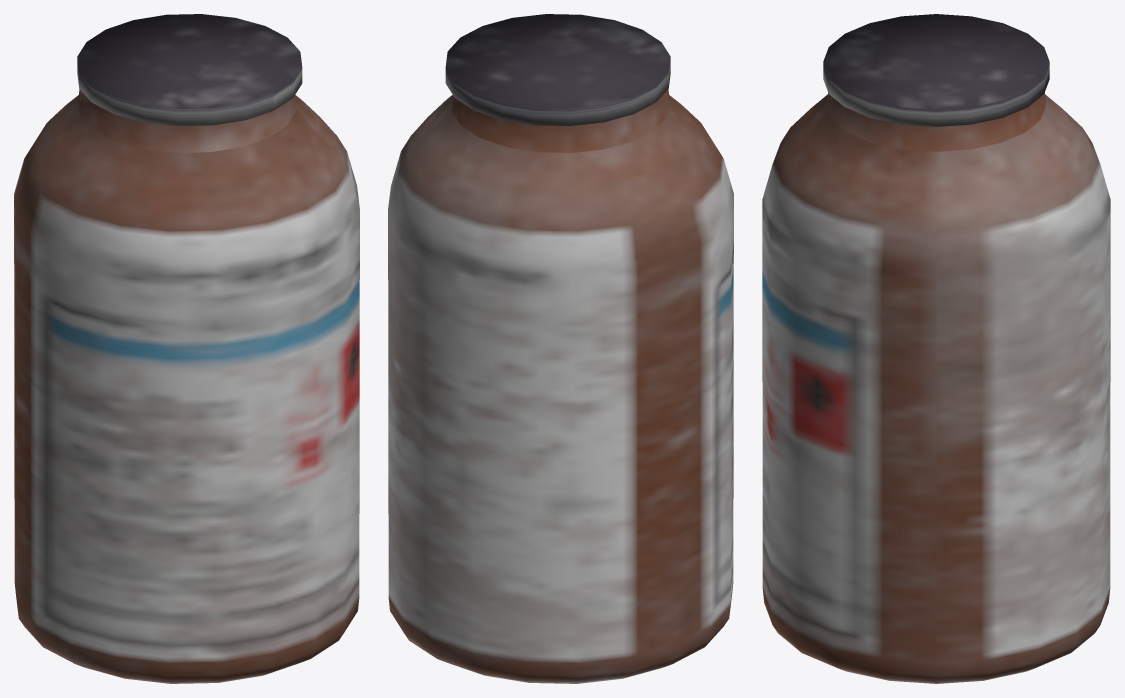
File: SM_Bottle_1.fbx
The picture shows the model from 3 angles, left to right: view 1: azimuth 30°, elevation 25°; view 2: azimuth 150°, elevation 25°; view 3: azimuth 270°, elevation 25°; orthographic projection.
Visible parts, largest first — view 1: SM_Bottle_1_LOD0; view 2: SM_Bottle_1_LOD0; view 3: SM_Bottle_1_LOD0.
Boxes of the visible parts, box(x1,y1,x2,y2) form: SM_Bottle_1_LOD0: box(14, 14, 359, 683); SM_Bottle_1_LOD0: box(388, 14, 733, 683); SM_Bottle_1_LOD0: box(762, 14, 1110, 683).
Bounding box in the file's own units: 3.27 × 3.27 × 5.79.
Materials: 1 (1 with a texture image).
